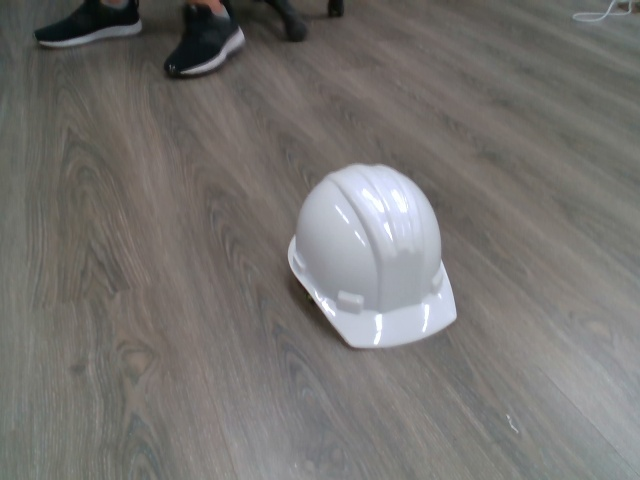helmet: (286, 161, 463, 354)
